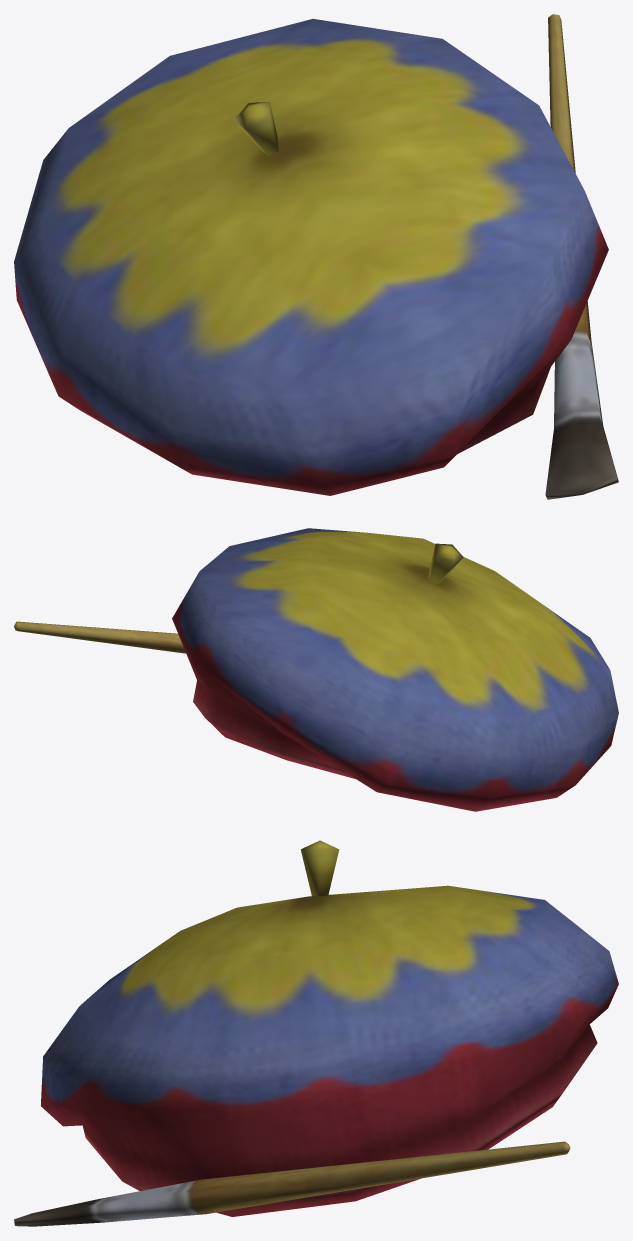
The model's file is artistHat.glb.
The picture shows the model from 3 angles, top to bottom: view 1: azimuth 30°, elevation 25°; view 2: azimuth 150°, elevation 25°; view 3: azimuth 270°, elevation 25°; orthographic projection. The views are drawn at different scales.
Parts seen in each view (by area): view 1: artistHat; view 2: artistHat; view 3: artistHat.
Part boxes in pixels (x1=…): artistHat: x1=14, y1=14, x2=618, y2=499; artistHat: x1=14, y1=528, x2=618, y2=811; artistHat: x1=14, y1=840, x2=618, y2=1226.
Bounding box in the file's own units: 0.9054 × 0.4567 × 0.8112.
1 material, 1 textured.
